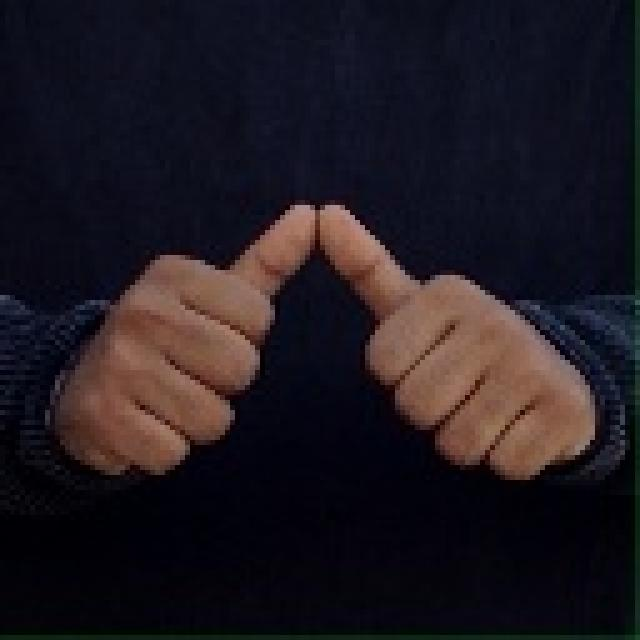A: (20, 125, 640, 530)
